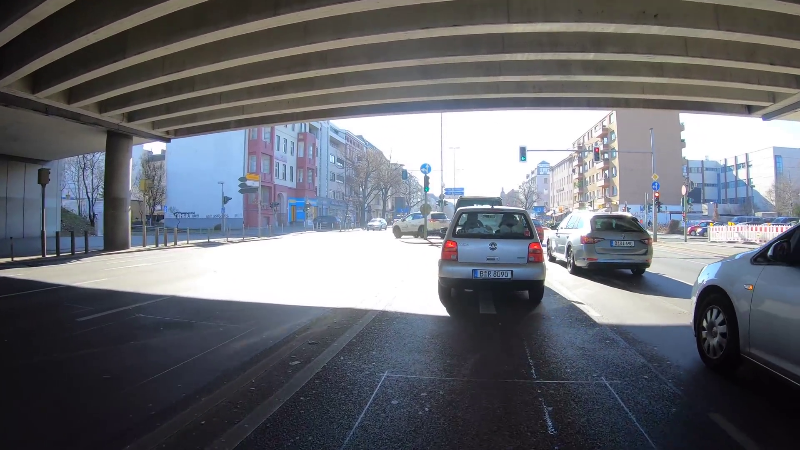Plate: (470, 267, 513, 279), (609, 238, 636, 248)
